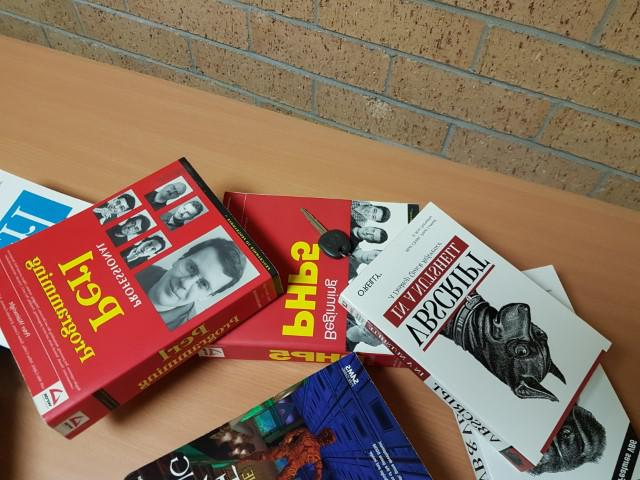key: (301, 208, 352, 257)
